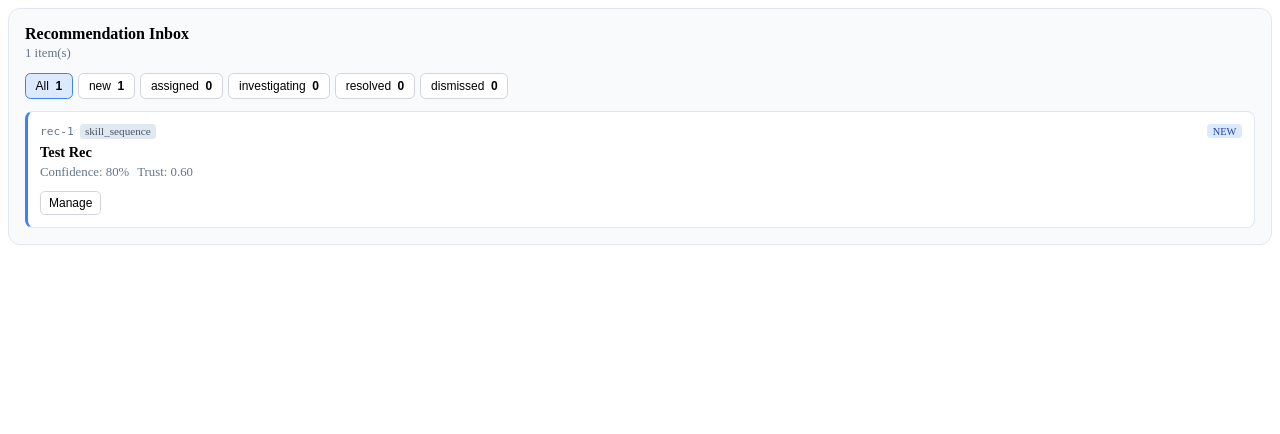
Test case: RecommendationInbox — handleUpdate error handling › shows actionError banner when PUT returns non-ok status
expect the text "Test Rec" is shown: met, box [40,144,92,160]
// Open edit form first, then click Mark resolved
Click the button "Manage".
click(71, 203)  # box [40,191,101,215]
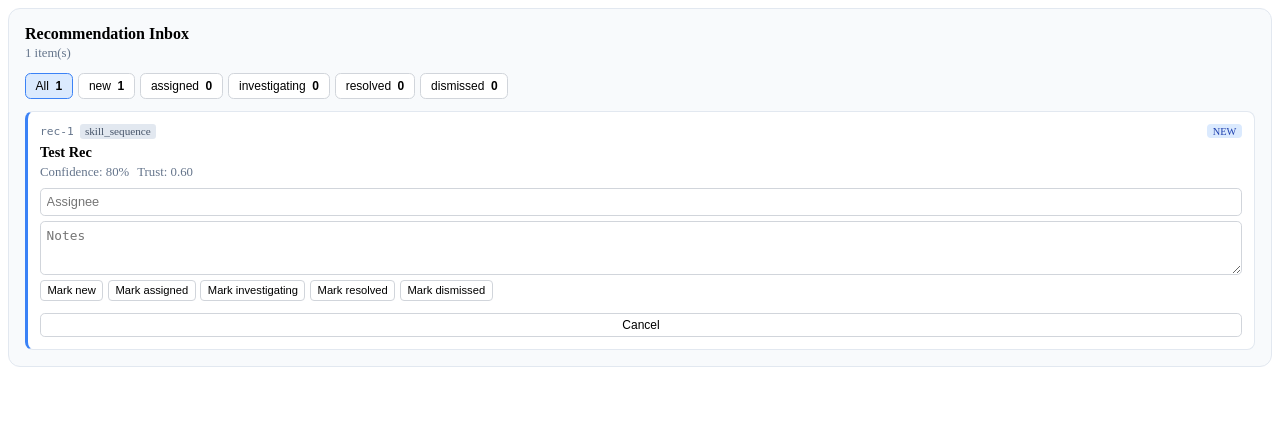
expect the button "Mark resolved" is shown: met
Click the button "Mark resolved".
click(353, 290)  # box [310,280,395,300]
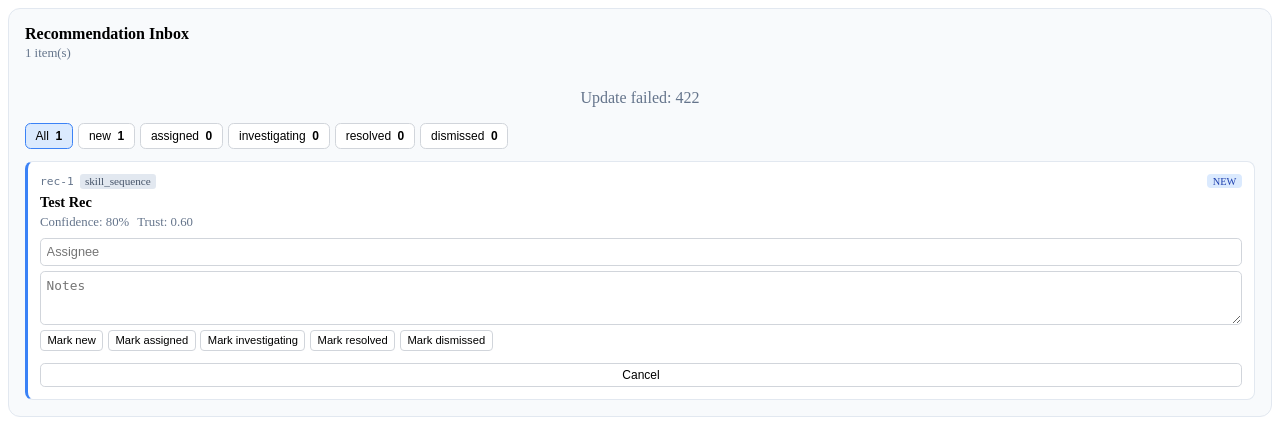
expect the text "Update failed: 422" is shown: met, box [580,89,700,106]
